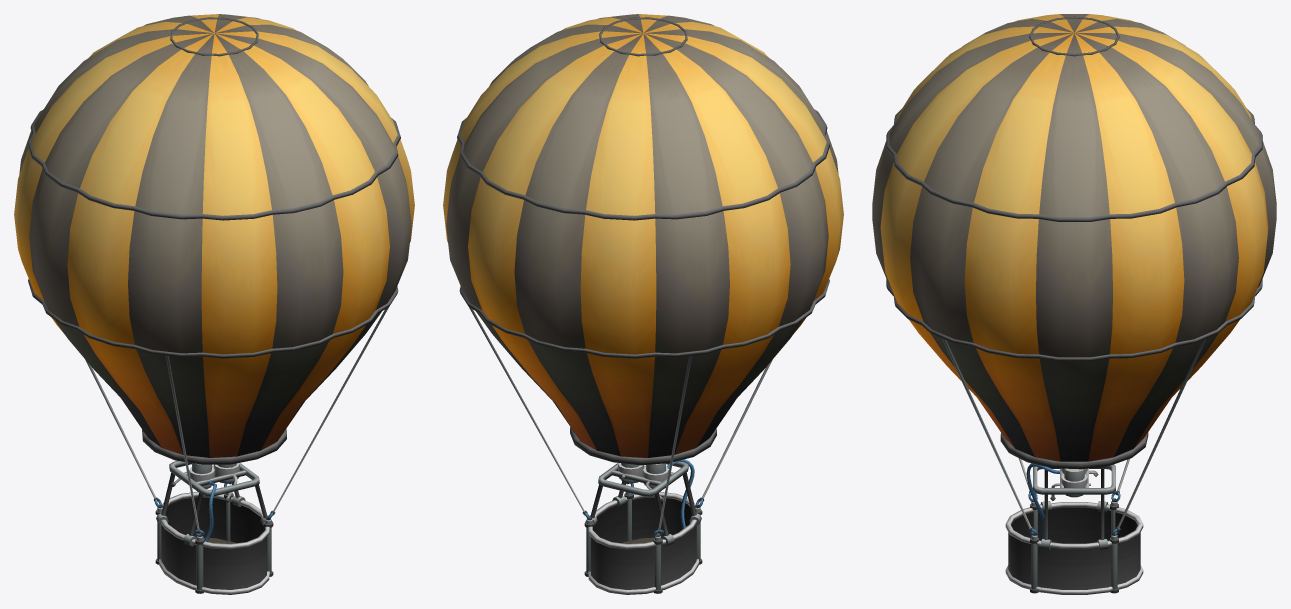
Rendered from balloon_2.fbx.
The picture shows the model from 3 angles, left to right: view 1: azimuth 30°, elevation 25°; view 2: azimuth 150°, elevation 25°; view 3: azimuth 270°, elevation 25°; orthographic projection.
Visible parts, largest first — view 1: Balloon_2; view 2: Balloon_2; view 3: Balloon_2.
Part boxes in pixels (x1,y1,x2,y2): Balloon_2: [14, 14, 414, 594]; Balloon_2: [443, 14, 843, 594]; Balloon_2: [872, 14, 1276, 594].
Size of the model in its own units: 970 by 1433 by 970.
